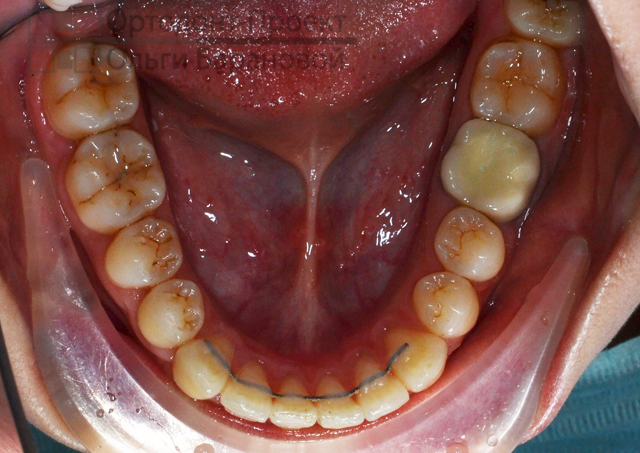LL1BC_decay: (414, 273, 479, 336)
LL1M_healthy: (441, 121, 538, 215)
LL2BC_decay: (435, 208, 503, 282)
LL2M_decay: (471, 40, 567, 129)
LL3M_decay: (509, 3, 581, 44)
LLCI_decay: (318, 379, 362, 429)
LLC_decay: (390, 332, 447, 392)
LLLI_decay: (358, 362, 409, 420)
LR1BC_decay: (139, 280, 204, 347)
LR1M_decay: (65, 129, 165, 232)
LR2BC_decay: (108, 217, 182, 286)
LR2M_decay: (42, 76, 138, 132)
LRCI_decay: (273, 379, 317, 429)
LRC_decay: (176, 339, 231, 400)
LRLI_decay: (226, 363, 272, 423)
